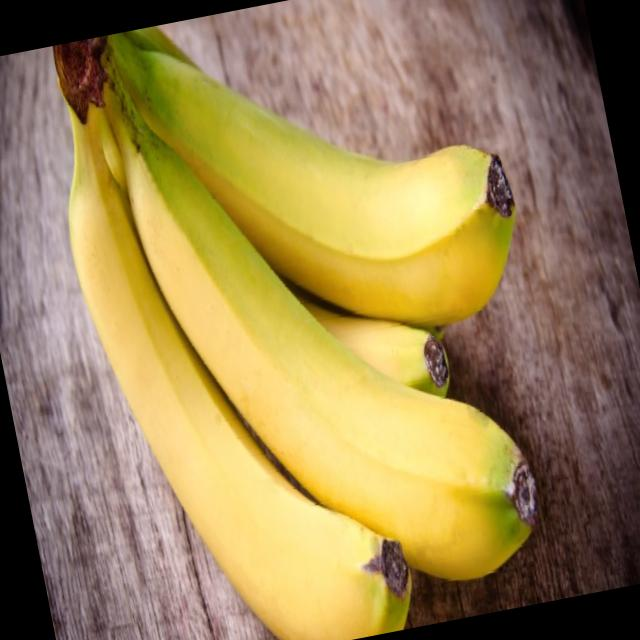banana: (101, 30, 546, 614), (45, 121, 425, 640), (107, 0, 536, 375)
